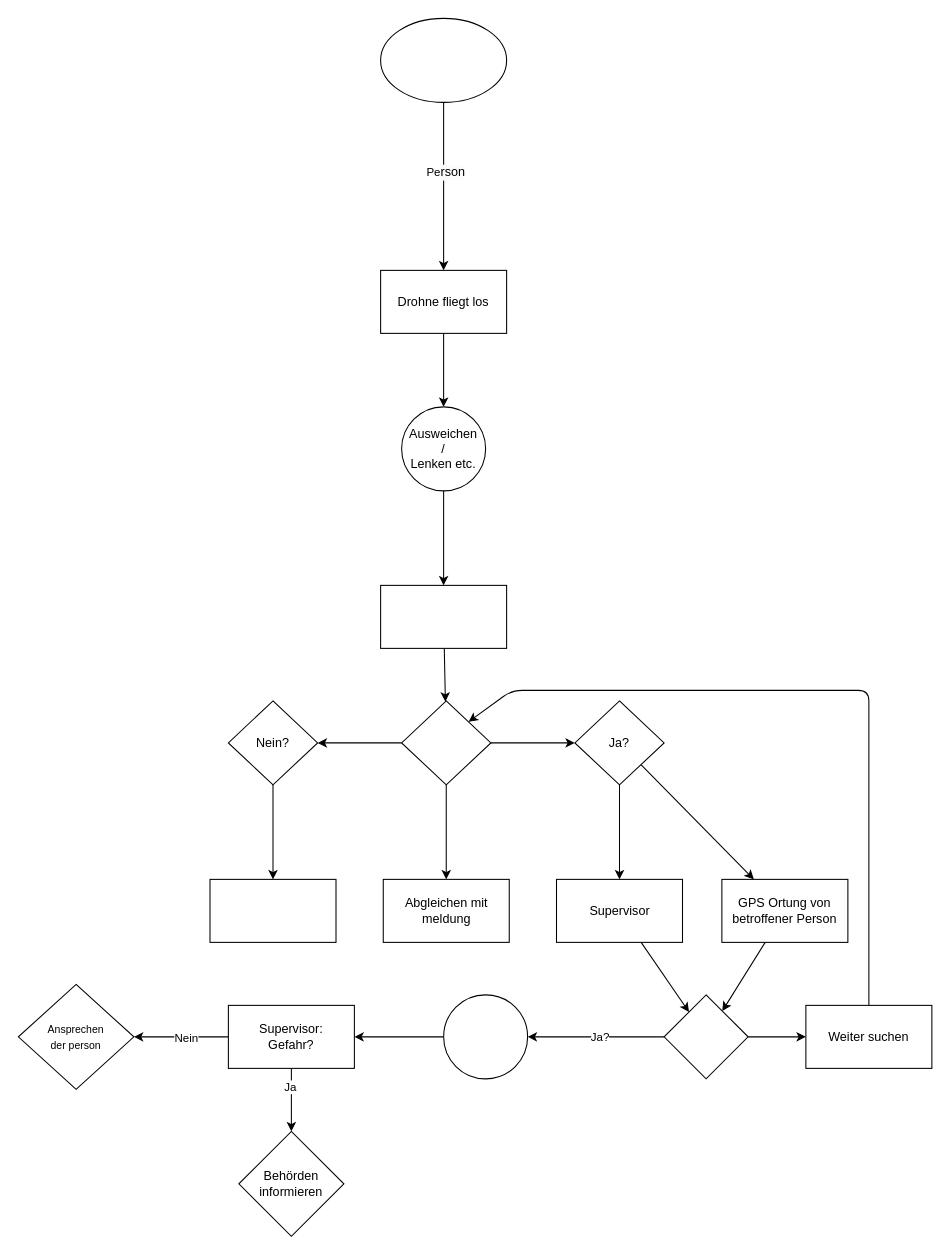
Image size: 950x1255. Some labels were removed from this diagram. Here are the shapes that lost their labels. From the top down, the centre of each, then its label:
At (x=443, y=59): "Notruf".
At (x=443, y=616): "Angekommen".
At (x=446, y=742): "Pe rsonen e rkennung".
At (x=272, y=910): "Falsche r Ala rm?".
At (x=485, y=1036): "ve rfolgen".
At (x=705, y=1036): "Zielpe rson gefunden?".
